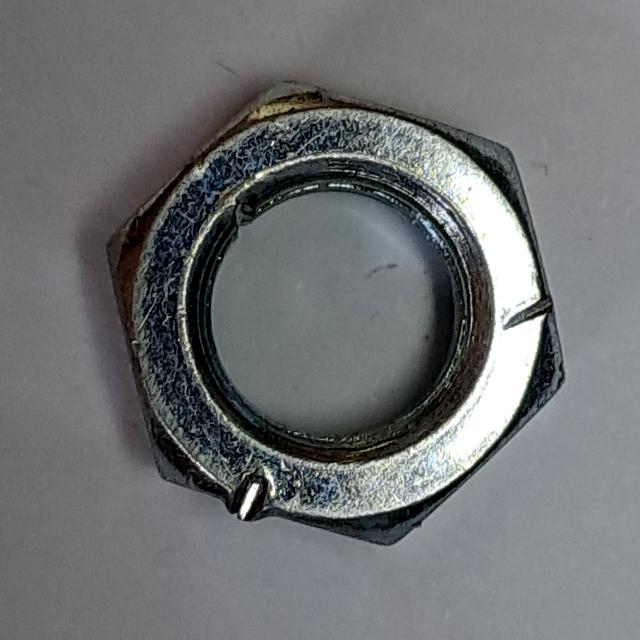Scratches: (96, 66, 575, 559)
